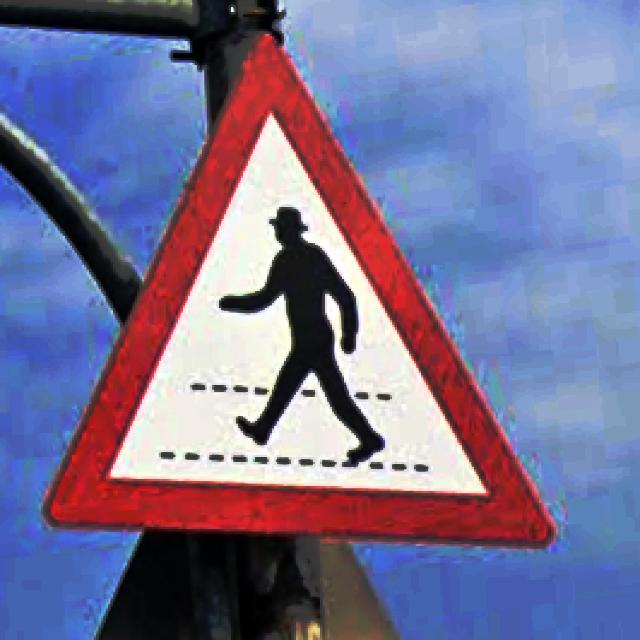pedestriancross: (43, 35, 554, 546)
